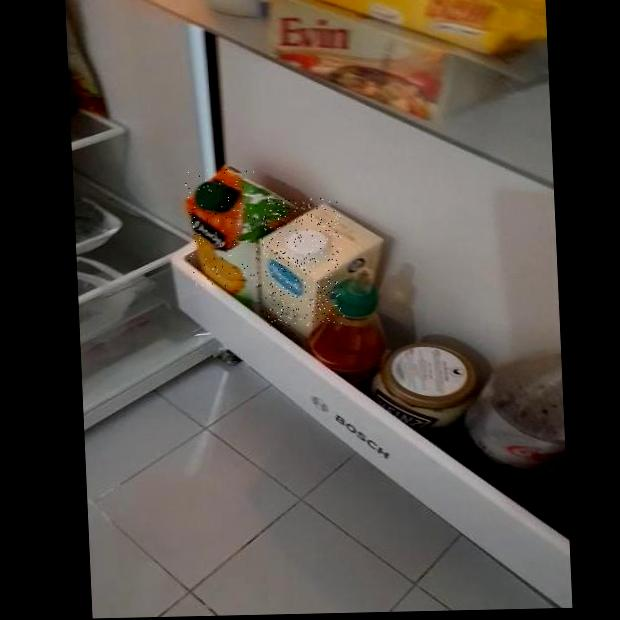juice: (185, 169, 261, 287)
milk: (259, 197, 345, 327)
